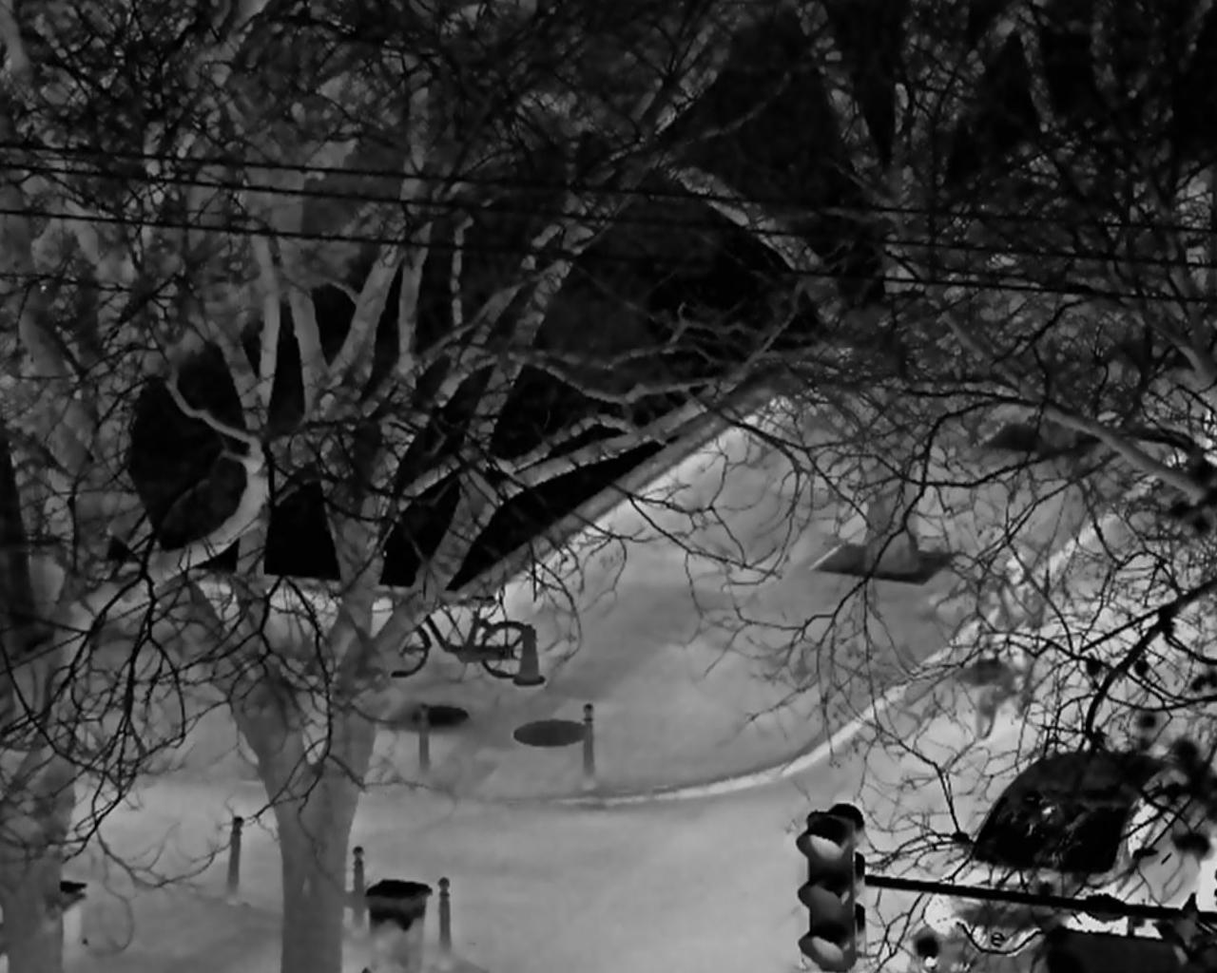person: (985, 552, 1035, 692)
